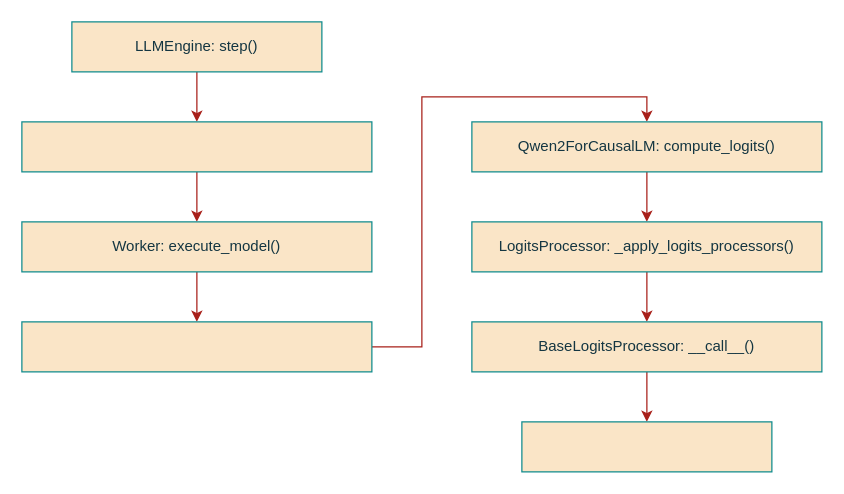
The diagram is 844 pixels wide and 494 high, and some of its shapes have lost their labels. Here are the shapes that lost their labels. From the top down, the box of each, then its label:
(21, 121, 372, 172): ModelExecutor: execute_model()
(21, 321, 372, 372): ModelRunner: execute_model()
(521, 421, 772, 472): Outlines Backend
